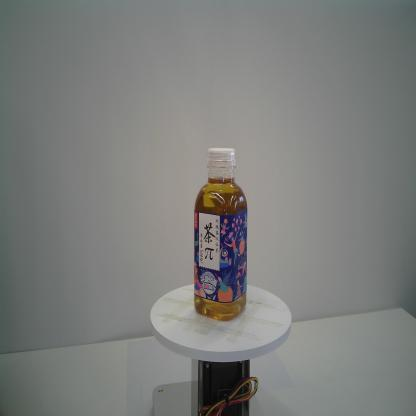Drink: (192, 146, 248, 323)
